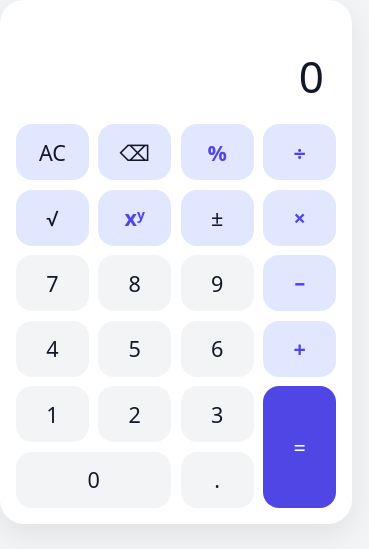
Test case: Calculator › ["1","0","subtract","4"] = shows 6
Click the button "1" at (52, 414), box [16,386,89,442]
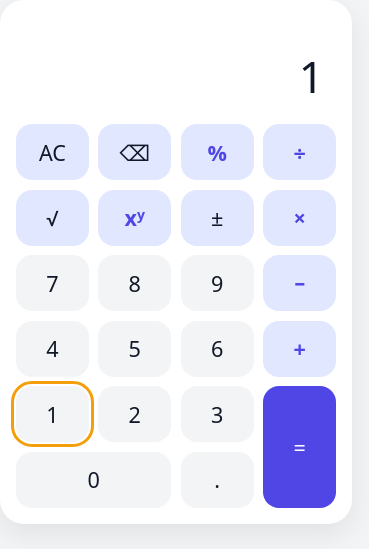
Click the button "0" at (94, 480), box [16,452,171,508]
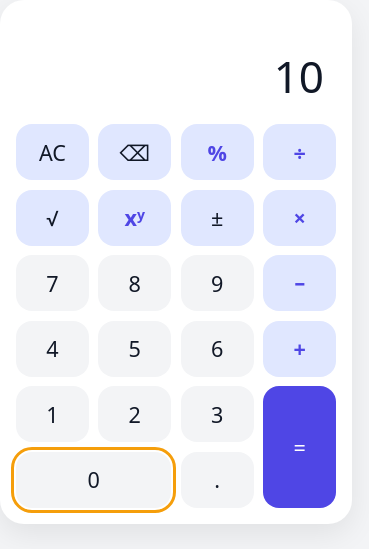
Click the button named "subtract" at (300, 283), box [263,255,336,311]
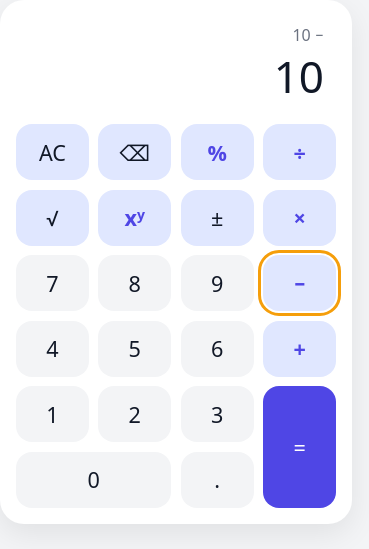
Click the button "4" at (52, 349), box [16,321,89,377]
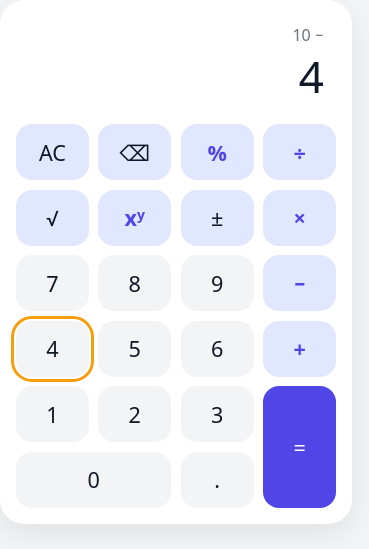
Click the button named "equals" at (300, 447), box [263,386,336,508]
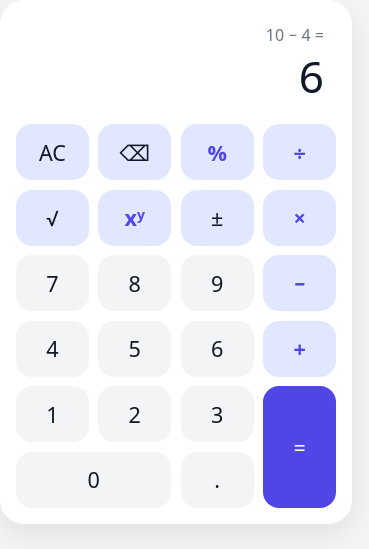
Expected: the text named "result" reads "6", [299,46,324,106]
